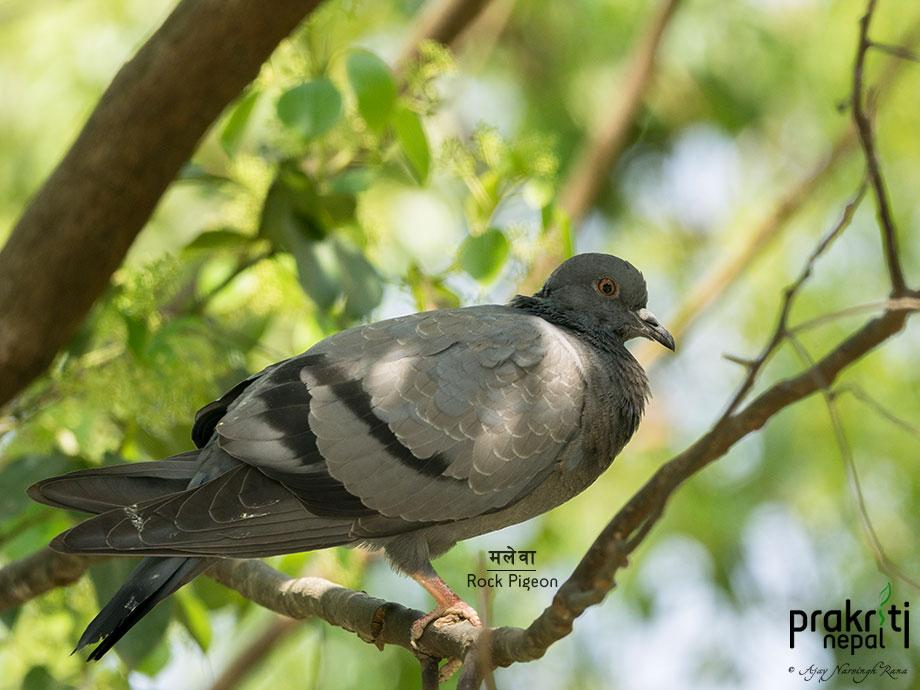Flying Rat: (106, 260, 665, 656)
